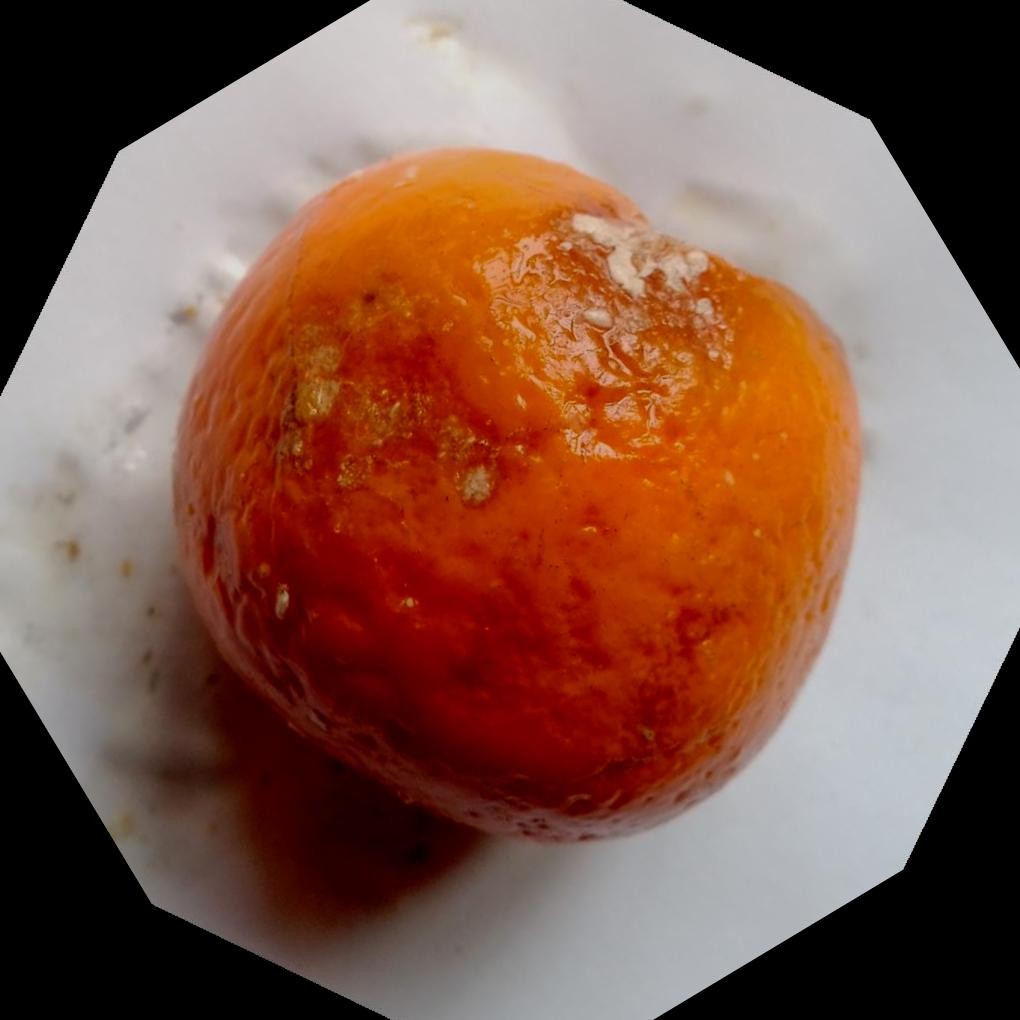FreshOrange: (169, 147, 867, 851)
